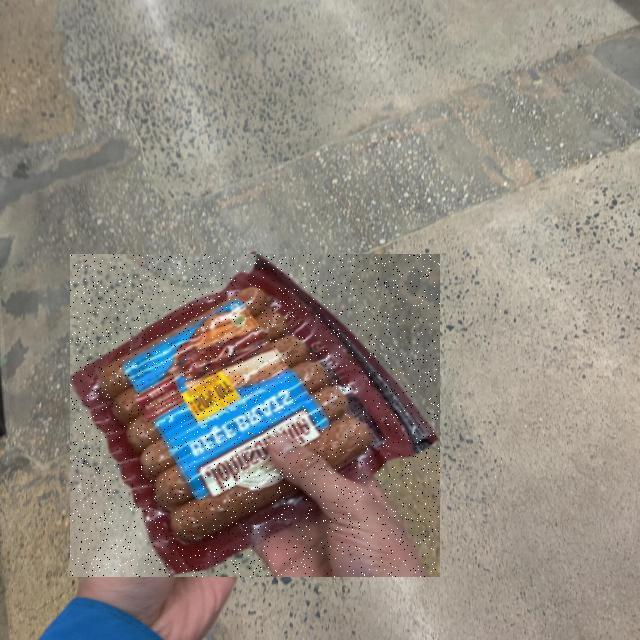Meat: (71, 254, 441, 577)
